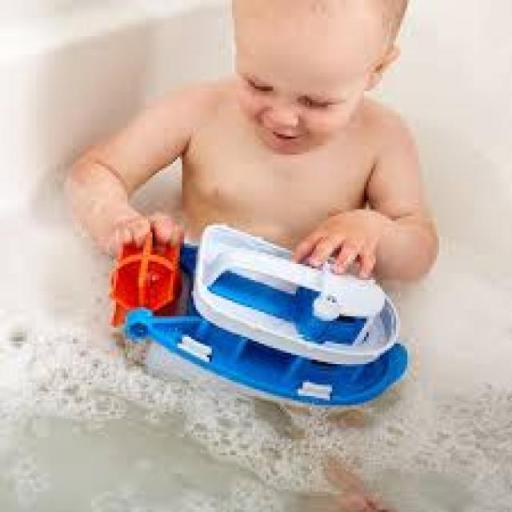baby: (62, 0, 439, 274)
